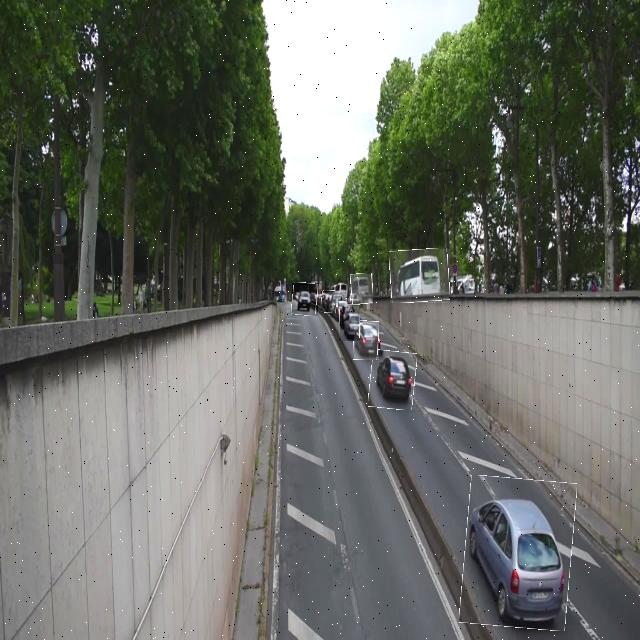Bus: (390, 249, 450, 303), (350, 274, 373, 304)
Car: (462, 477, 574, 629), (369, 350, 416, 409), (354, 321, 379, 360), (292, 283, 318, 316), (339, 304, 360, 341), (322, 291, 338, 313)
